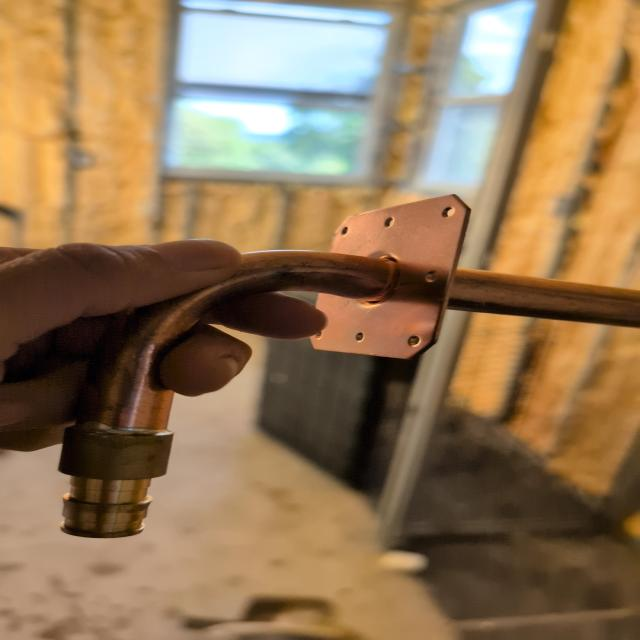wall_flange: (52, 198, 640, 570)
